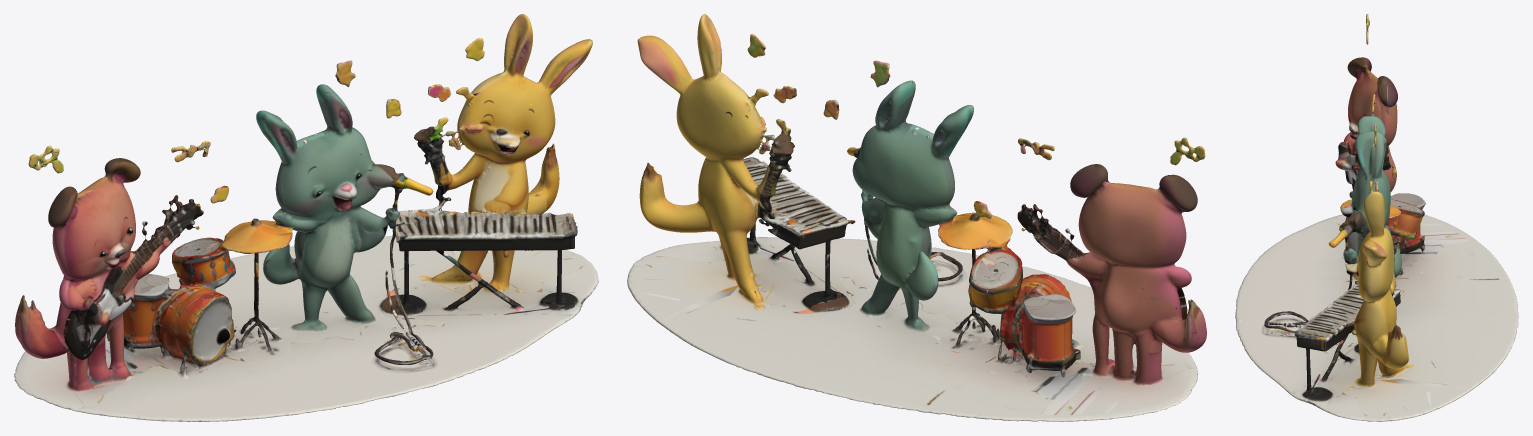
Rendered from music_band.glb.
3 renders of one model, left to right at view 1: azimuth 30°, elevation 25°; view 2: azimuth 150°, elevation 25°; view 3: azimuth 270°, elevation 25°, orthographic. The views are drawn at different scales.
Size of the model in its own units: 65506 by 29022 by 35989.
Materials: 1 (1 with a texture image).
